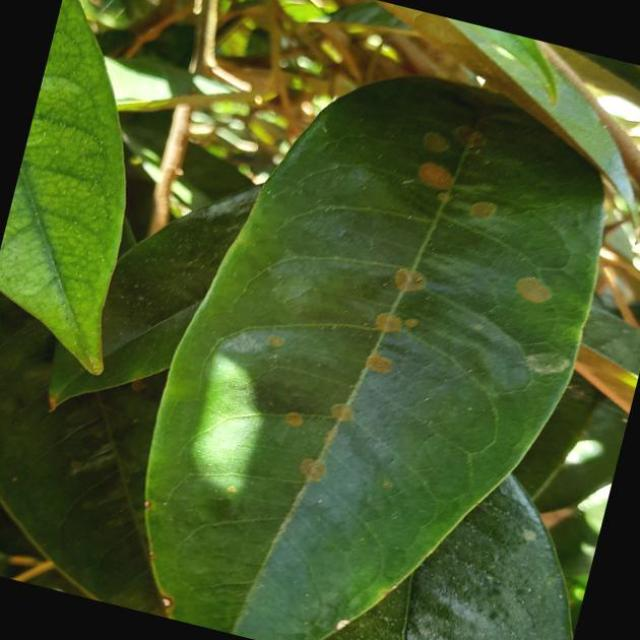Algal Leaf Spot: (98, 17, 640, 639)
